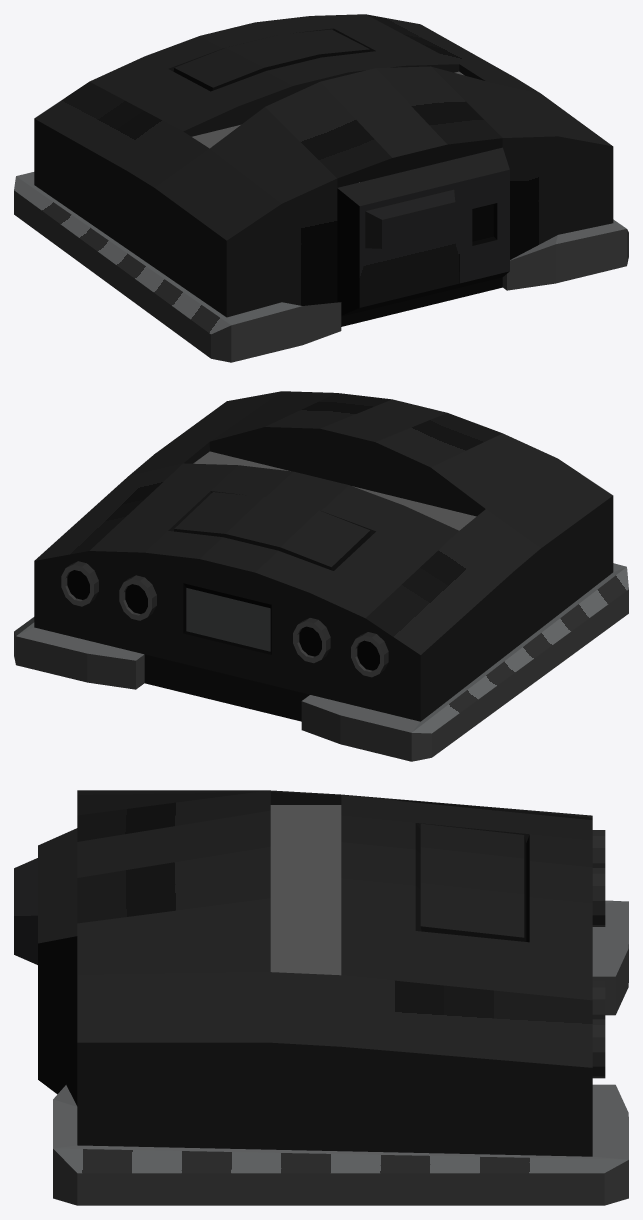
File: games_launcher_model.gltf
3 views of the same model, one above another, from view 1: azimuth 30°, elevation 25°; view 2: azimuth 150°, elevation 25°; view 3: azimuth 270°, elevation 25° (orthographic). The views are drawn at different scales.
Visible parts, largest first — view 1: game_console; view 2: game_console; view 3: game_console.
Boxes of the visible parts, x1=… form: game_console: x1=14, y1=14, x2=628, y2=362; game_console: x1=14, y1=391, x2=628, y2=761; game_console: x1=14, y1=790, x2=628, y2=1205.
Size of the model in its own units: 0.6759 by 0.2781 by 0.644.
1 material, 1 textured.
